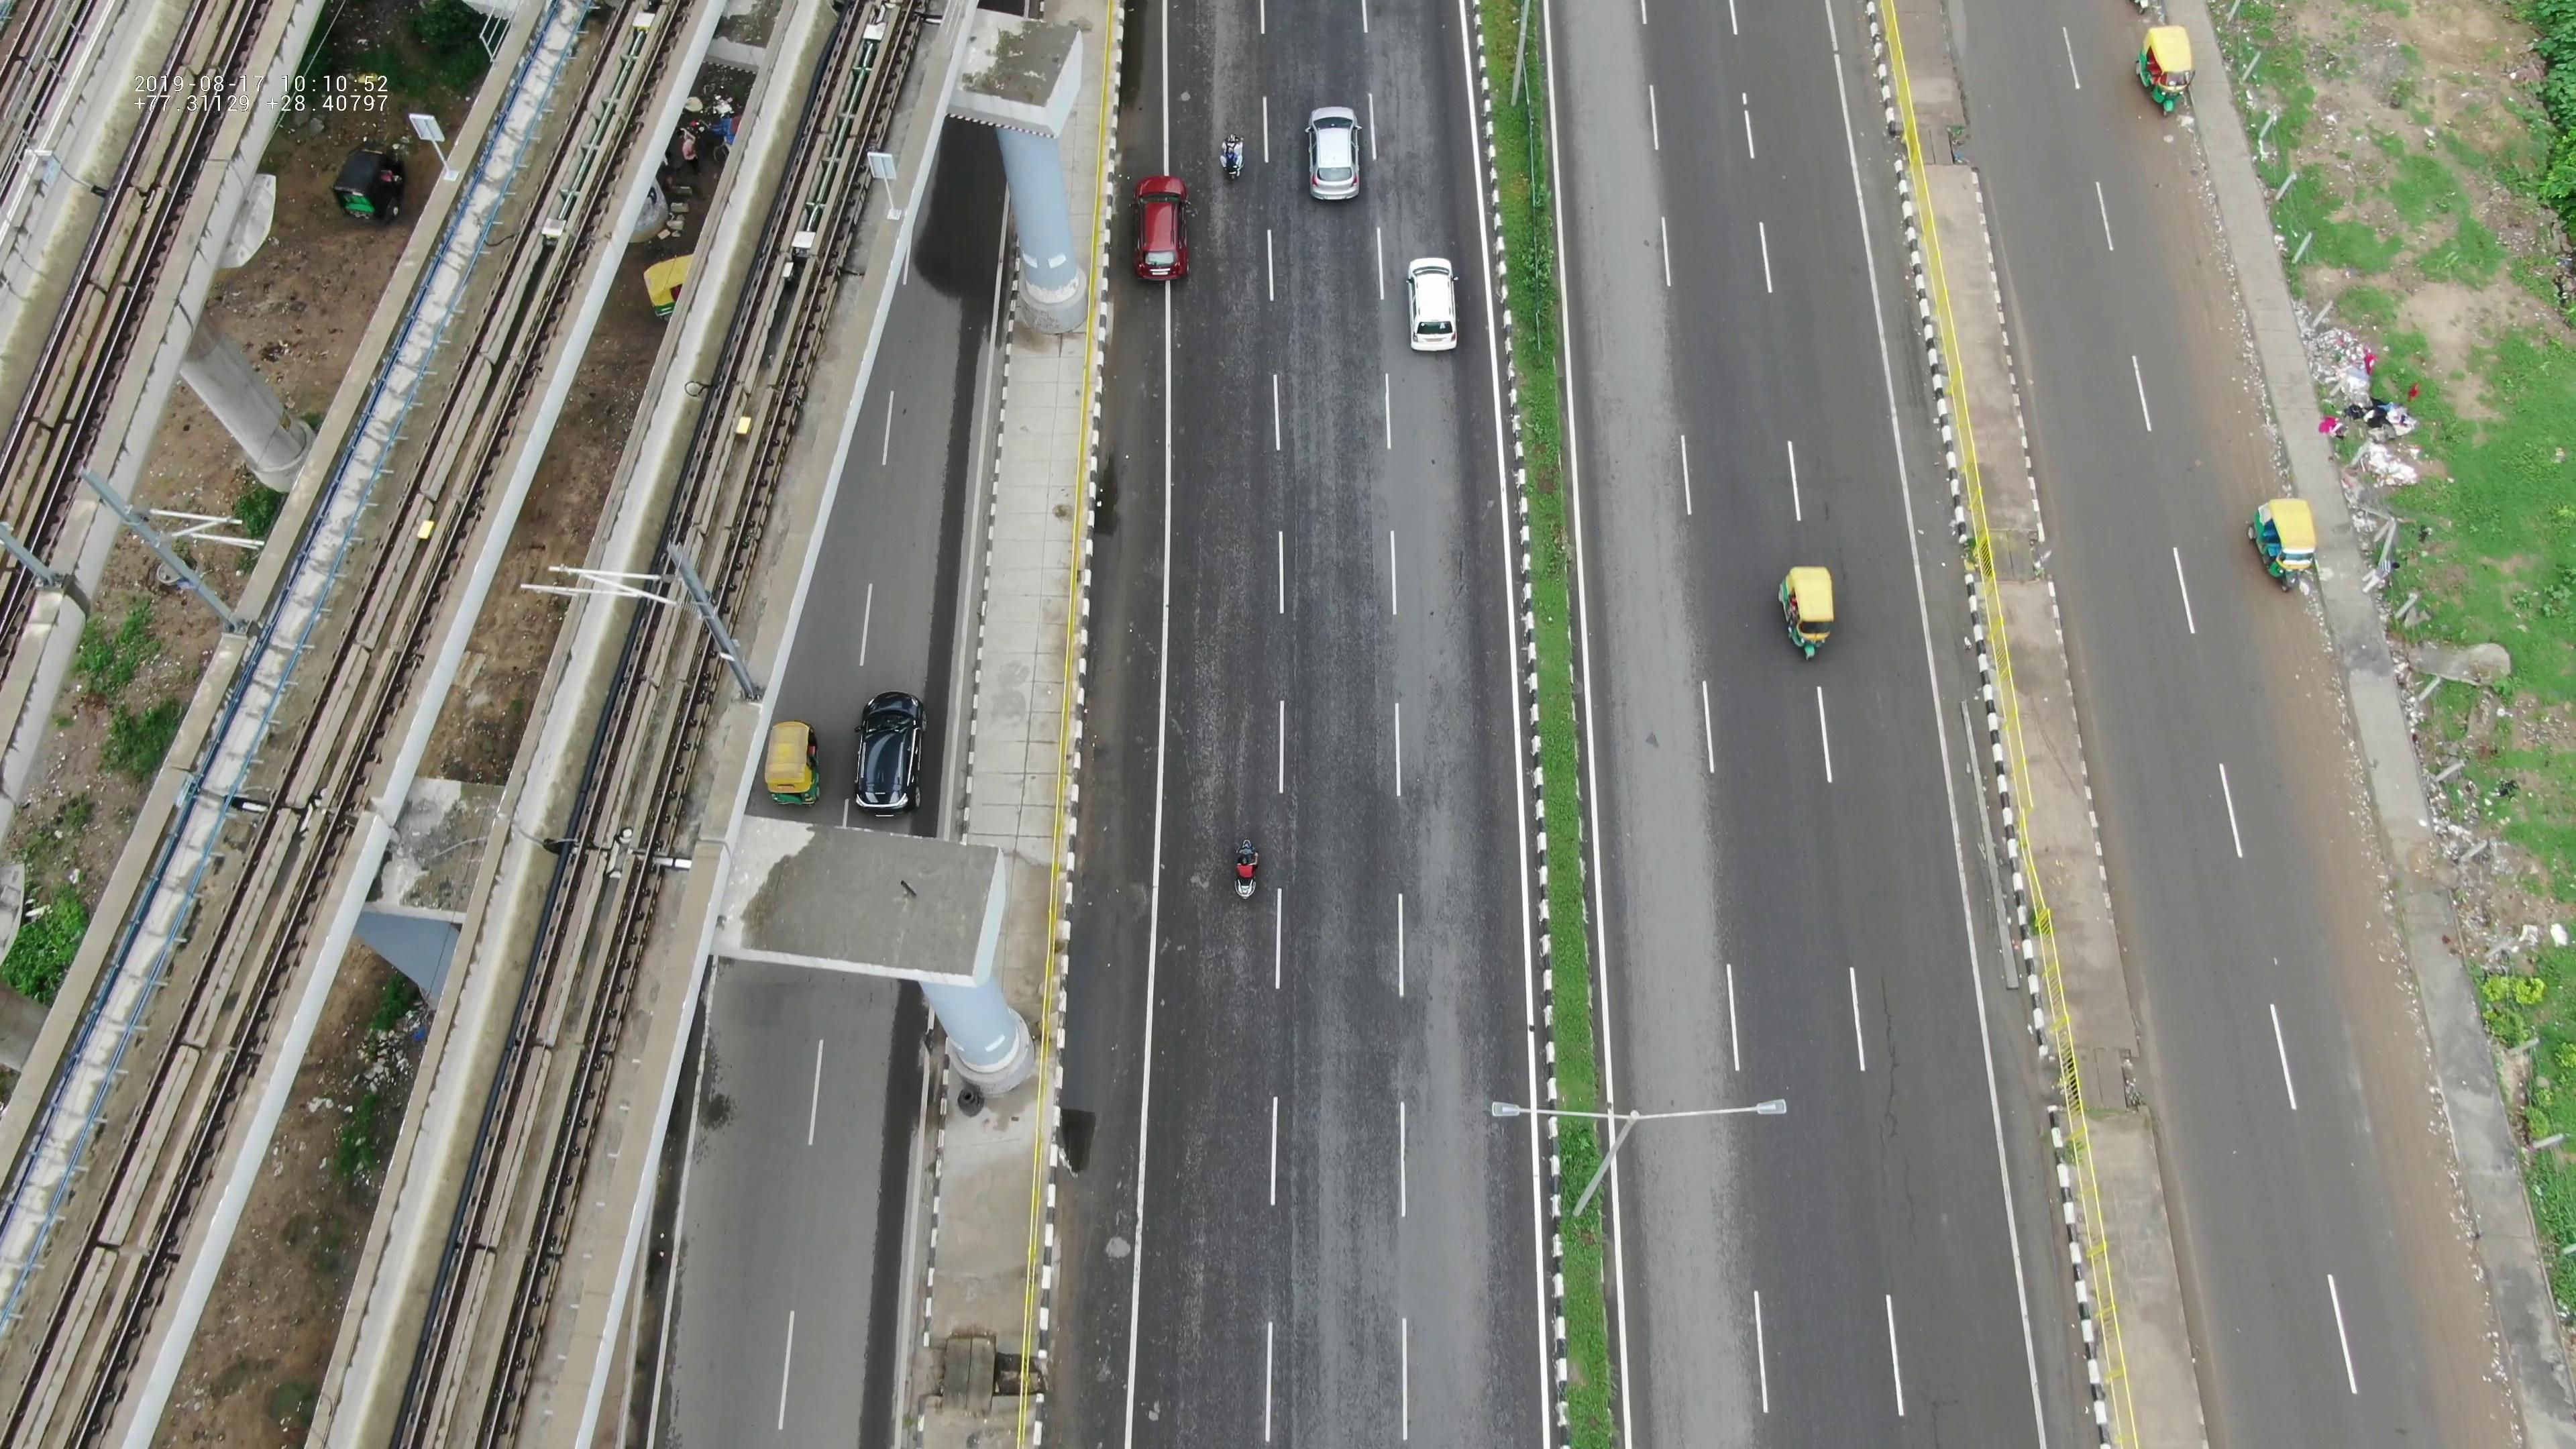Muddy_road: (2341, 977, 2443, 1200), (2273, 697, 2373, 925), (2146, 191, 2254, 377)
